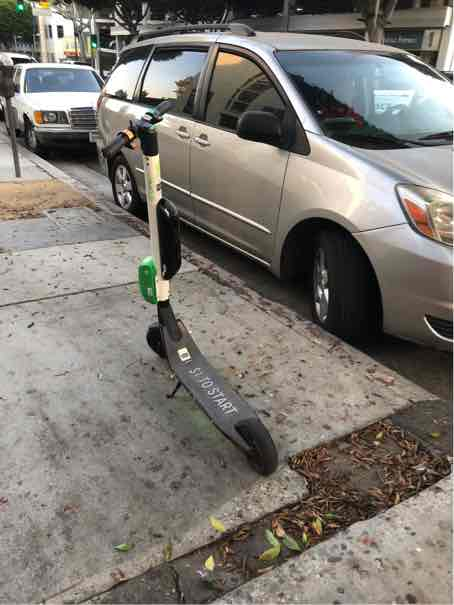scooter: (86, 90, 286, 481)
